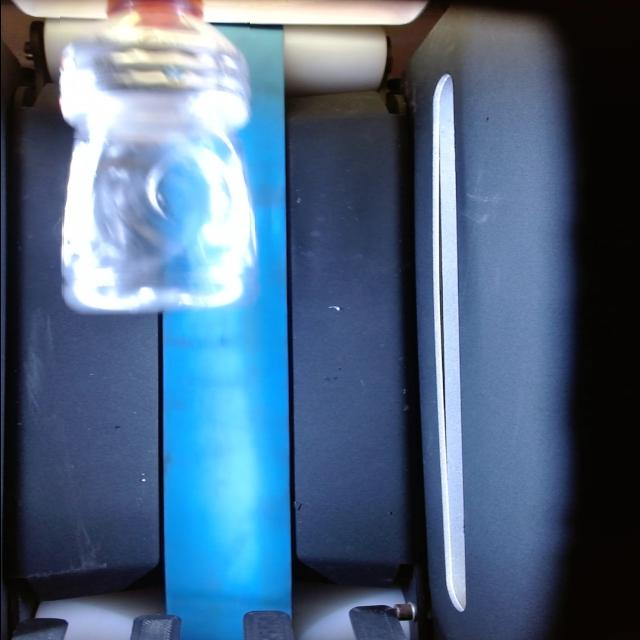bottom: (62, 132, 254, 312)
label: (59, 14, 249, 138)
neck: (108, 0, 202, 30)
